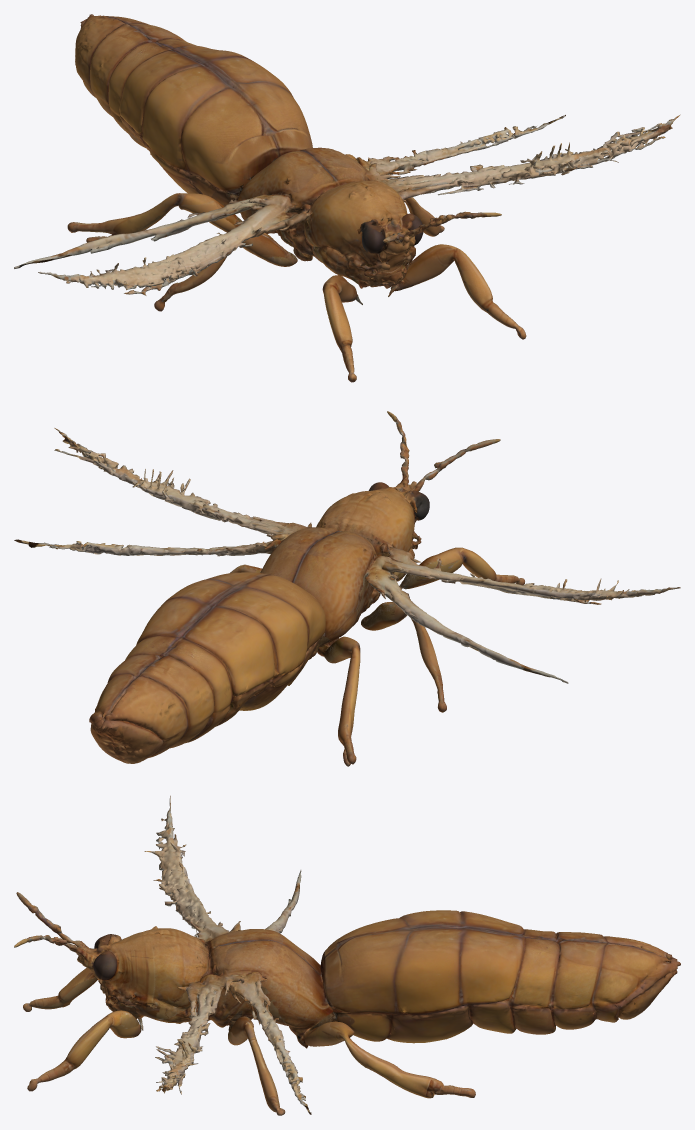
The model's file is thrips_model.glb.
The picture shows the model from 3 angles, top to bottom: view 1: azimuth 30°, elevation 25°; view 2: azimuth 150°, elevation 25°; view 3: azimuth 270°, elevation 25°; orthographic projection. The views are drawn at different scales.
Bounding box in the file's own units: 1.85 × 0.4258 × 1.77.
Materials: 1 (1 with a texture image).
